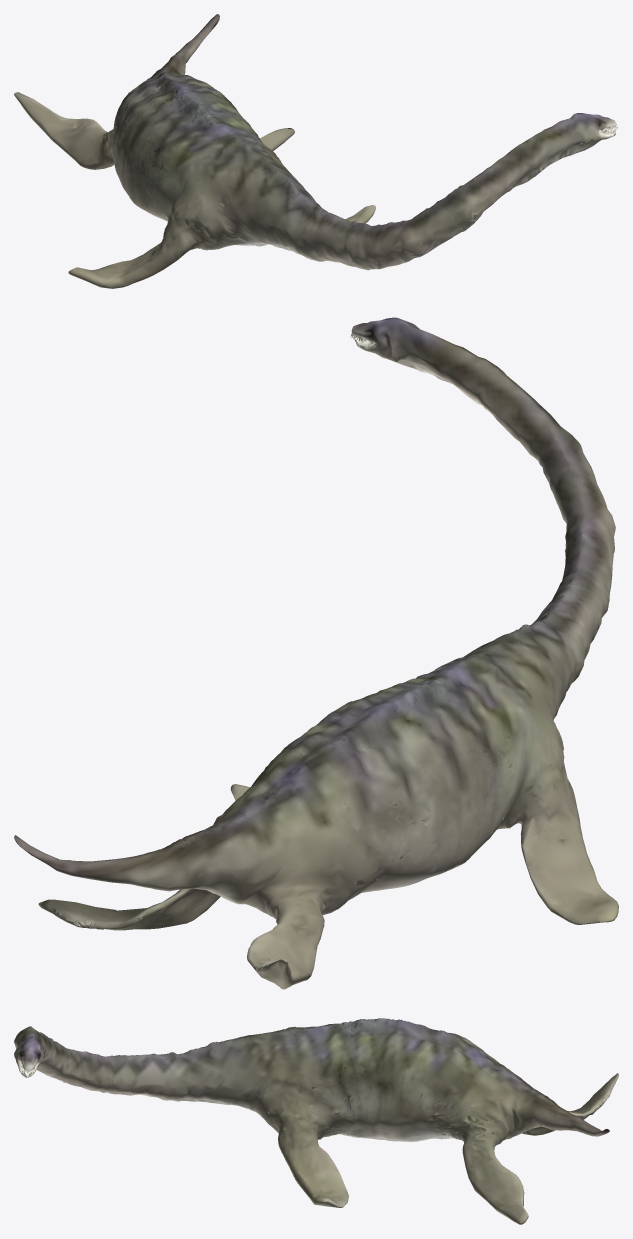
Rendered from nature-plesiosaurus.glb.
3 renders of one model, top to bottom at view 1: azimuth 30°, elevation 25°; view 2: azimuth 150°, elevation 25°; view 3: azimuth 270°, elevation 25°, orthographic. The views are drawn at different scales.
Visible parts, largest first — view 1: Object_2; view 2: Object_2; view 3: Object_2.
Part boxes in pixels (x1=…): Object_2: x1=14, y1=14, x2=618, y2=288; Object_2: x1=14, y1=317, x2=618, y2=989; Object_2: x1=14, y1=1018, x2=618, y2=1224.
Size of the model in its own units: 603 by 350 by 946.
Materials: 1 (1 with a texture image).
